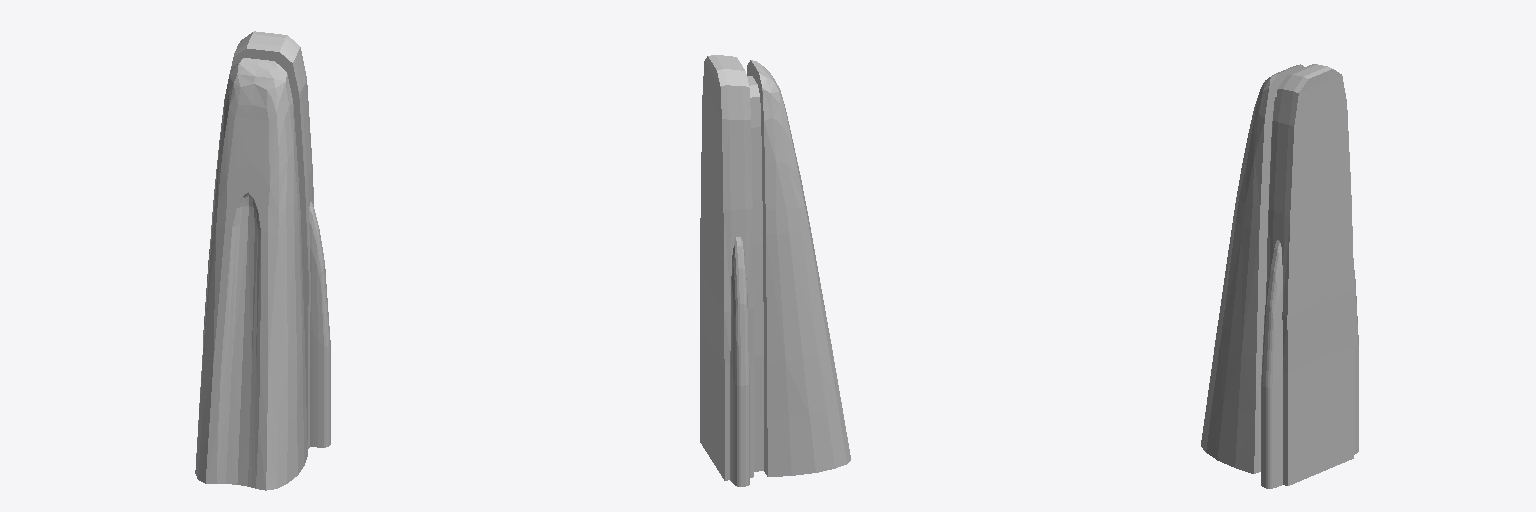
File: Pillar1.obj
The picture shows the model from 3 angles: view 1: azimuth 30°, elevation 25°; view 2: azimuth 150°, elevation 25°; view 3: azimuth 270°, elevation 25°; orthographic projection.
Visible parts, largest first — view 1: Pillar1; view 2: Pillar1; view 3: Pillar1.
Part boxes in pixels (x1,y1,x2,y2): Pillar1: (195,31,330,490); Pillar1: (700,55,850,486); Pillar1: (1201,64,1358,488).
Bounding box in the file's own units: 9.37 × 26 × 9.37.